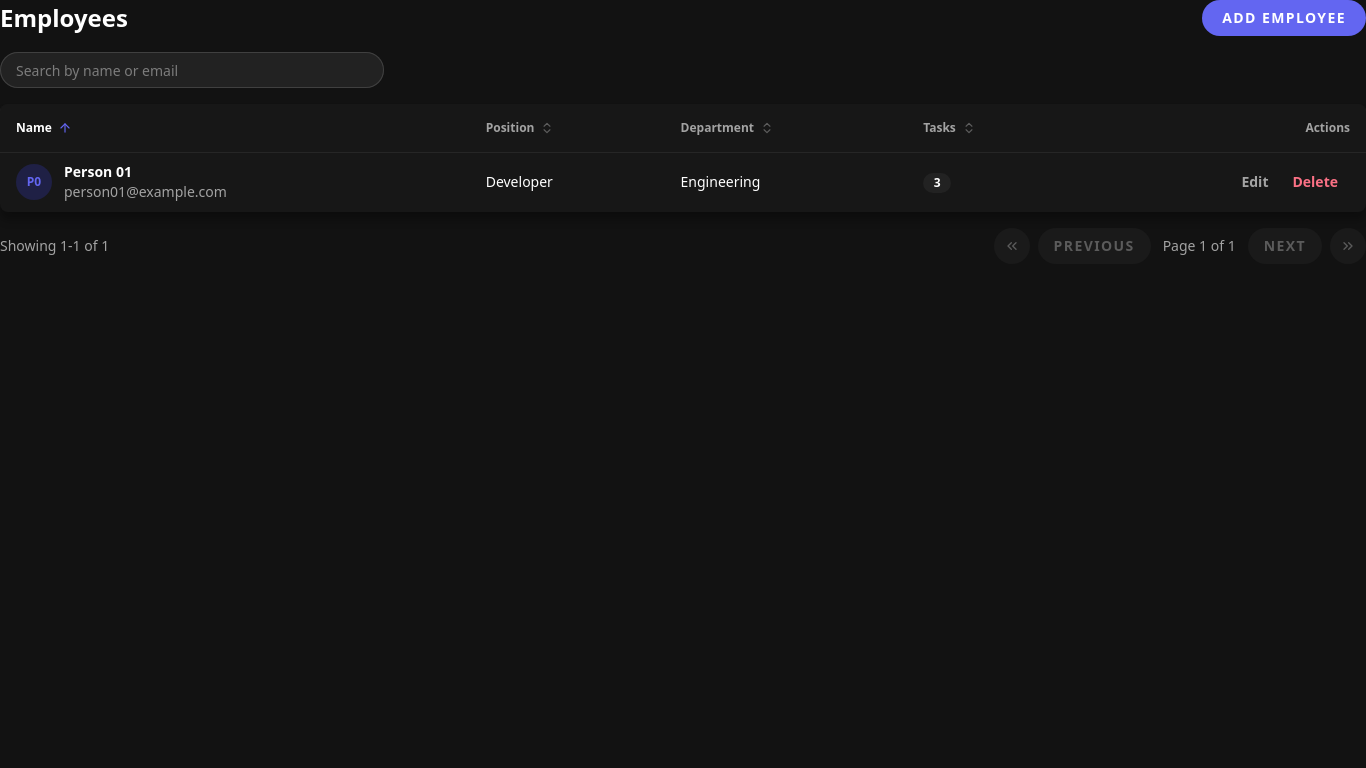
Test: EmployeesPage: deleting › asks first, says how many tasks become unassigned, and does nothing on Cancel
Click the button with aria-label "Delete Person 01". click: (1315, 182)
box: [1280, 168, 1350, 196]
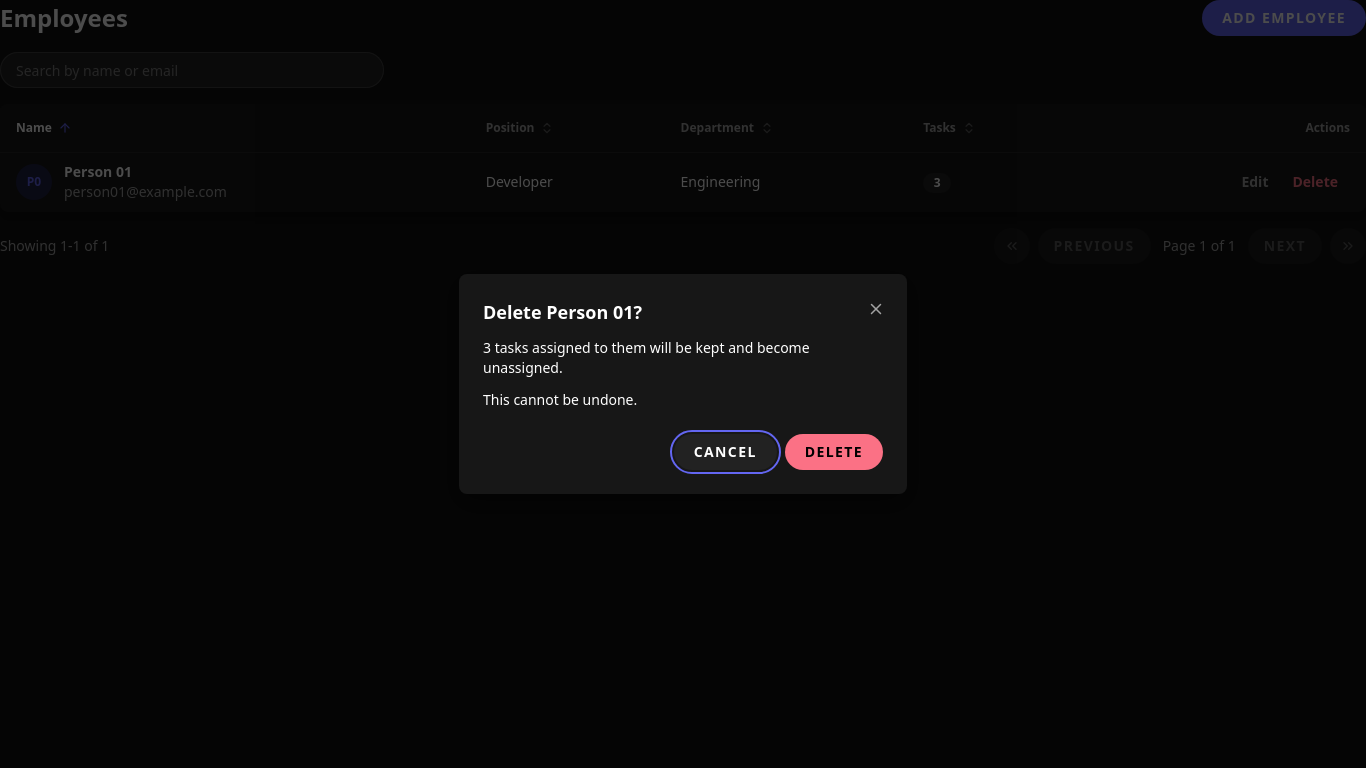
Now the text "3 tasks assigned to them will be kept and become unassigned." is shown, box [483, 338, 810, 377]
Click the button "Cancel". click: (725, 452)
box: [674, 434, 777, 470]
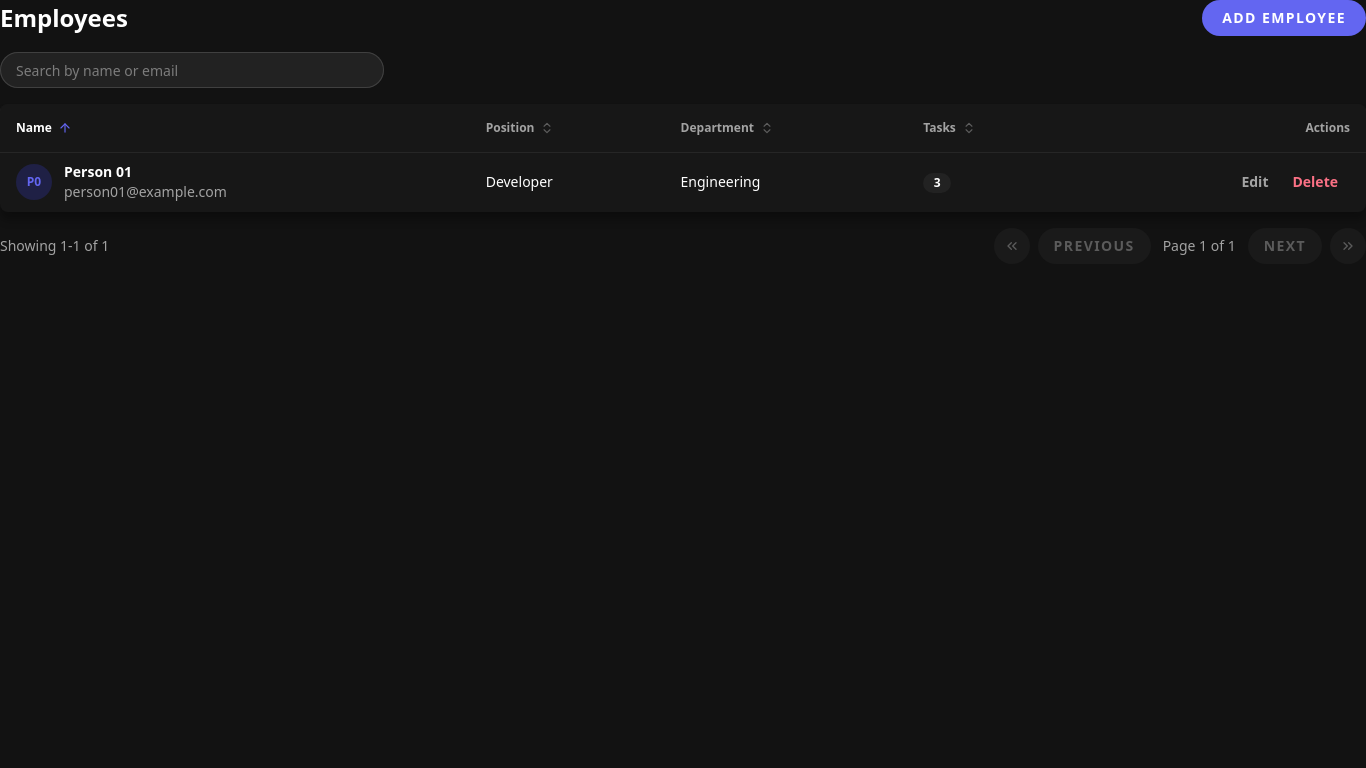
Expected: the text "Person 01" is shown, [64, 162, 132, 181]
Now the dialog is gone
